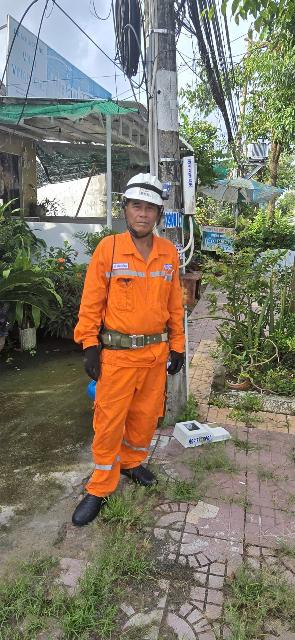gloves: (79, 342, 110, 388), (161, 349, 189, 378)
harness: (91, 321, 182, 351)
helmet: (116, 165, 172, 210)
shoes: (69, 481, 112, 527), (109, 456, 162, 489)
